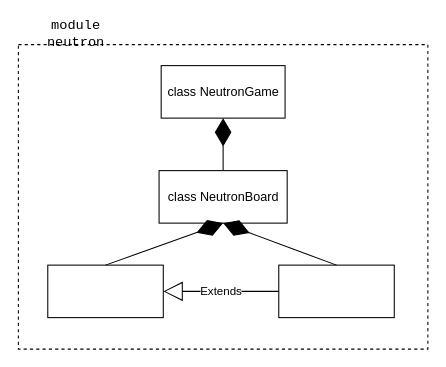
Some shapes in this 446 by 367 pixel diagram are drawn without their labels. Each missing label, with the centre of its shape:
class Neutron: the point at 336,291
class Soldier: the point at 105,291
